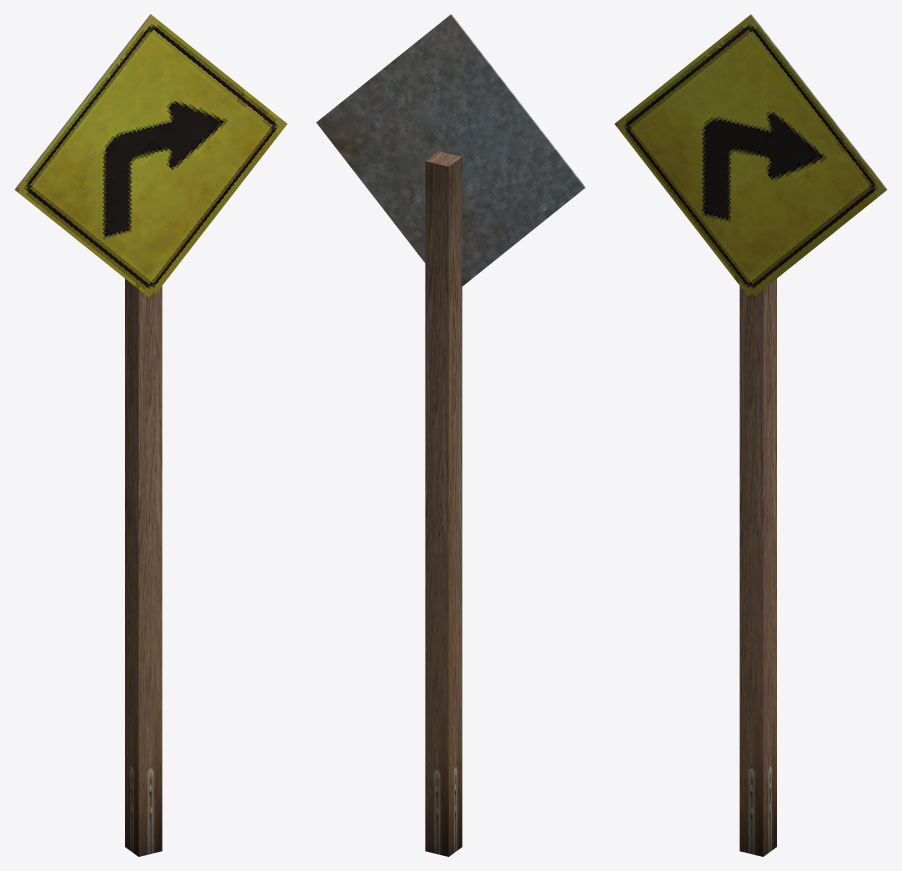
Rendered from leftturnahead_wood.fbx.
3 renders of one model, left to right at view 1: azimuth 30°, elevation 25°; view 2: azimuth 150°, elevation 25°; view 3: azimuth 330°, elevation 25°, orthographic.
Parts seen in each view (by area): view 1: mesh_1, mesh_2; view 2: mesh_0, mesh_2; view 3: mesh_1, mesh_2.
Part boxes in pixels (x1=…): mesh_1: x1=15, y1=15, x2=287, y2=299; mesh_2: x1=125, y1=279, x2=162, y2=856; mesh_0: x1=316, y1=14, x2=585, y2=286; mesh_2: x1=425, y1=151, x2=462, y2=856; mesh_1: x1=614, y1=15, x2=886, y2=299; mesh_2: x1=739, y1=279, x2=776, y2=856.
Bounding box in the file's own units: 107 × 316 × 9.9.
3 materials, 3 textured.
